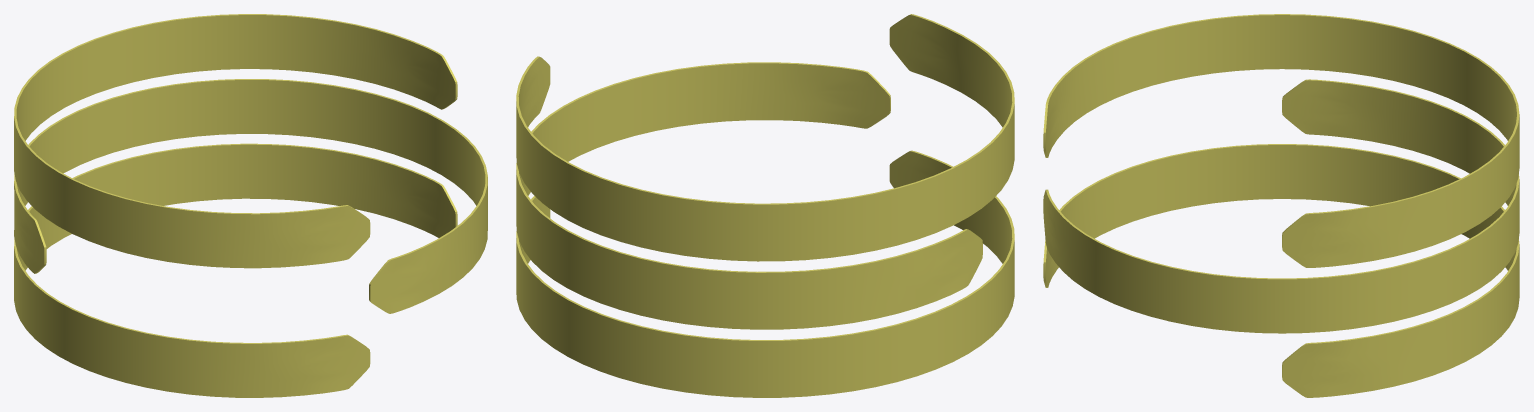
Rendered from Signo_Ayuda.fbx.
3 renders of one model, left to right at view 1: azimuth 30°, elevation 25°; view 2: azimuth 150°, elevation 25°; view 3: azimuth 270°, elevation 25°, orthographic. The views are drawn at different scales.
Parts seen in each view (by area): view 1: A3, A1, A2; view 2: A2, A3, A1; view 3: A3, A2, A1.
Boxes of the visible parts, <box> form: A3: <box>14,14,457,268</box>; A1: <box>14,143,457,397</box>; A2: <box>14,79,487,313</box>; A2: <box>516,62,982,329</box>; A3: <box>516,14,1014,261</box>; A1: <box>516,150,1014,397</box>; A3: <box>1043,14,1519,267</box>; A2: <box>1043,79,1519,333</box>; A1: <box>1043,144,1519,397</box>.
Size of the model in its own units: 200 by 85.06 by 199.
